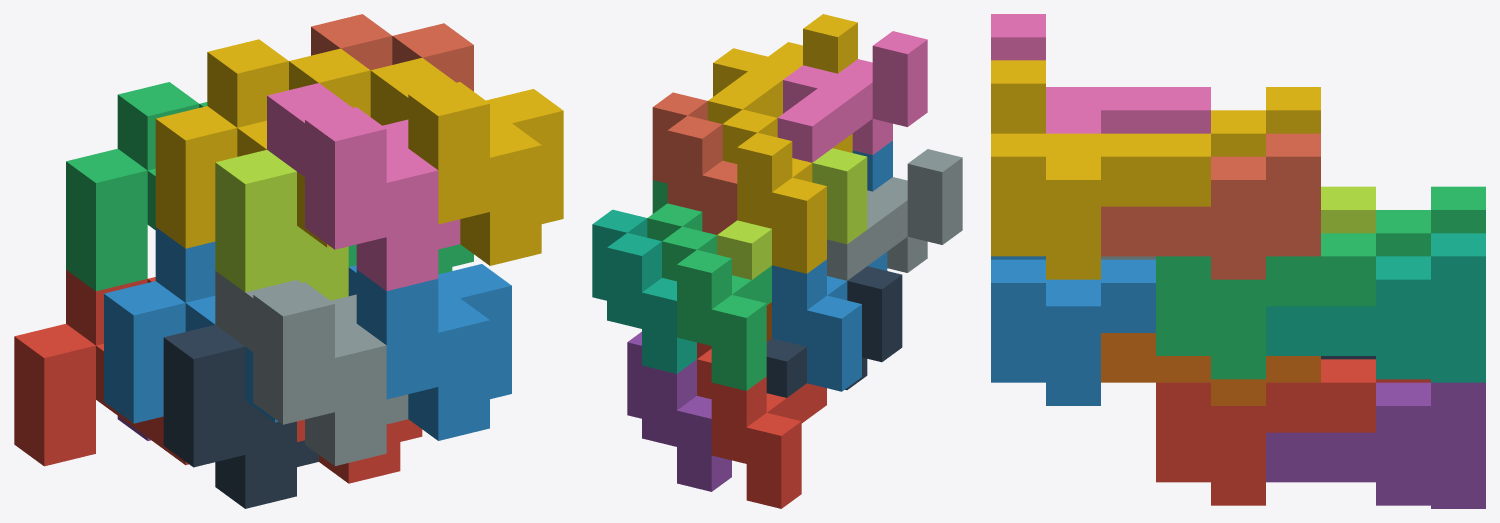
File: tiling.obj
3 views of the same model, side by side, from view 1: azimuth 30°, elevation 25°; view 2: azimuth 150°, elevation 25°; view 3: azimuth 270°, elevation 25° (orthographic). The views are drawn at different scales.
Visible parts, largest first — view 1: copy_2_domain_8, copy_2_domain_4, copy_2_domain_2, copy_2_domain_6, copy_1_domain_4, copy_2_domain_1, copy_1_domain_3, copy_1_domain_1, copy_1_domain_2, copy_2_domain_3, copy_1_domain_8, copy_2_domain_5 (+1 smaller); view 2: copy_2_domain_4, copy_1_domain_3, copy_1_domain_4, copy_1_domain_1, copy_2_domain_2, copy_1_domain_7, copy_1_domain_2, copy_1_domain_8, copy_1_domain_5, copy_2_domain_8, copy_2_domain_3, copy_2_domain_1 (+2 smaller); view 3: copy_2_domain_8, copy_1_domain_7, copy_1_domain_5, copy_1_domain_8, copy_2_domain_6, copy_2_domain_5, copy_2_domain_7, copy_2_domain_4, copy_1_domain_6, copy_1_domain_3, copy_1_domain_4, copy_2_domain_3.
Boxes of the visible parts, x1=… form: copy_2_domain_8: x1=370, y1=58, x2=563, y2=265; copy_2_domain_4: x1=267, y1=83, x2=460, y2=291; copy_2_domain_2: x1=215, y1=271, x2=408, y2=465; copy_2_domain_6: x1=348, y1=264, x2=511, y2=440; copy_1_domain_4: x1=155, y1=39, x2=370, y2=248; copy_2_domain_1: x1=163, y1=324, x2=318, y2=508; copy_1_domain_3: x1=66, y1=82, x2=207, y2=291; copy_1_domain_1: x1=14, y1=270, x2=188, y2=466; copy_1_domain_2: x1=104, y1=227, x2=278, y2=423; copy_2_domain_3: x1=215, y1=150, x2=348, y2=300; copy_1_domain_8: x1=311, y1=14, x2=473, y2=91; copy_2_domain_5: x1=297, y1=419, x2=422, y2=483; copy_2_domain_4: x1=777, y1=31, x2=927, y2=162; copy_1_domain_3: x1=662, y1=226, x2=771, y2=390; copy_1_domain_4: x1=722, y1=109, x2=852, y2=273; copy_1_domain_1: x1=697, y1=349, x2=826, y2=508; copy_2_domain_2: x1=827, y1=149, x2=962, y2=280; copy_1_domain_7: x1=592, y1=209, x2=696, y2=373; copy_1_domain_2: x1=772, y1=252, x2=887, y2=391; copy_1_domain_8: x1=652, y1=92, x2=737, y2=234; copy_1_domain_5: x1=627, y1=332, x2=731, y2=491; copy_2_domain_8: x1=707, y1=14, x2=857, y2=123; copy_2_domain_3: x1=717, y1=148, x2=867, y2=279; copy_2_domain_1: x1=766, y1=266, x2=902, y2=397; copy_2_domain_8: x1=991, y1=60, x2=1210, y2=279; copy_1_domain_7: x1=1266, y1=233, x2=1485, y2=382; copy_1_domain_5: x1=1266, y1=382, x2=1485, y2=508; copy_1_domain_8: x1=1101, y1=133, x2=1320, y2=279; copy_2_domain_6: x1=991, y1=256, x2=1155, y2=405; copy_2_domain_5: x1=1156, y1=359, x2=1375, y2=505; copy_2_domain_7: x1=1156, y1=233, x2=1375, y2=379; copy_2_domain_4: x1=991, y1=14, x2=1210, y2=133; copy_1_domain_6: x1=1101, y1=333, x2=1320, y2=405; copy_1_domain_3: x1=1376, y1=186, x2=1485, y2=256; copy_1_domain_4: x1=1211, y1=87, x2=1320, y2=156; copy_2_domain_3: x1=1321, y1=186, x2=1375, y2=233.
Bounding box in the file's own units: 6 × 9 × 9.
